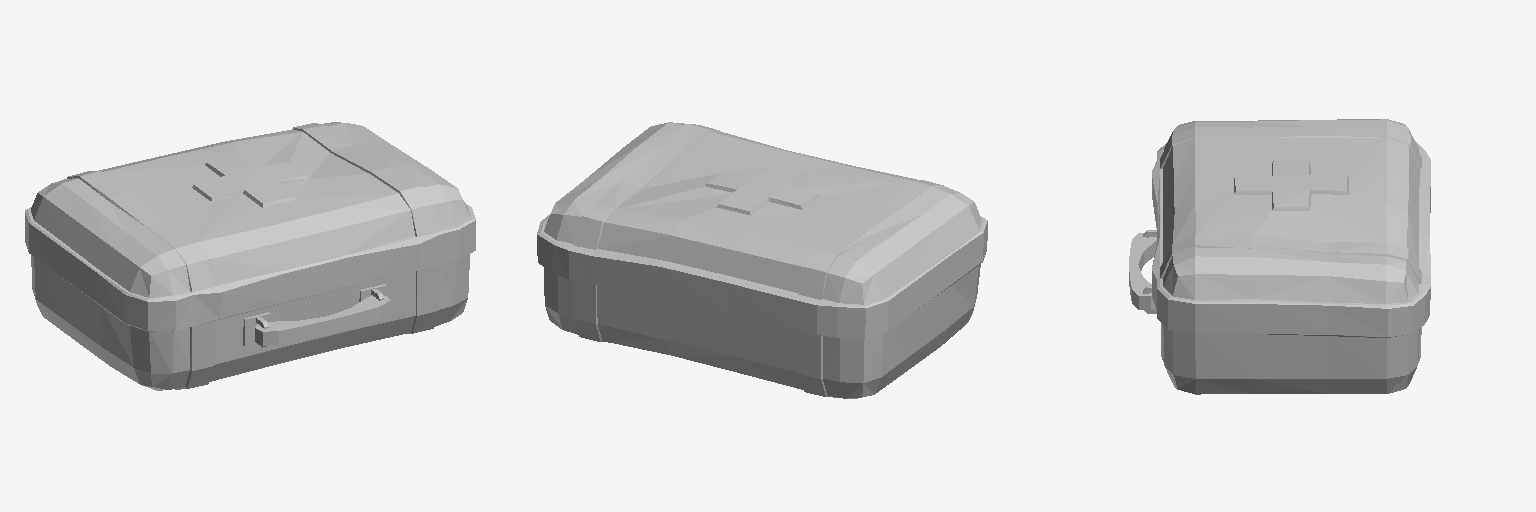
The model's file is abc.obj.
3 renders of one model, left to right at view 1: azimuth 30°, elevation 25°; view 2: azimuth 150°, elevation 25°; view 3: azimuth 270°, elevation 25°, orthographic.
Visible parts, largest first — view 1: loUV:polySurface1 medKit_01_group cryExportNode_medKit_01 polySu, polySurface4 loUV:polySurface1 medKit_01_group cryExportNode_med; view 2: loUV:polySurface1 medKit_01_group cryExportNode_medKit_01 polySu; view 3: loUV:polySurface1 medKit_01_group cryExportNode_medKit_01 polySu, polySurface4 loUV:polySurface1 medKit_01_group cryExportNode_med.
Boxes of the visible parts, <box> form: loUV:polySurface1 medKit_01_group cryExportNode_medKit_01 polySu: <box>25,122,475,390</box>; polySurface4 loUV:polySurface1 medKit_01_group cryExportNode_med: <box>255,295,390,345</box>; loUV:polySurface1 medKit_01_group cryExportNode_medKit_01 polySu: <box>537,122,987,398</box>; loUV:polySurface1 medKit_01_group cryExportNode_medKit_01 polySu: <box>1143,119,1430,394</box>; polySurface4 loUV:polySurface1 medKit_01_group cryExportNode_med: <box>1129,233,1156,310</box>.
Size of the model in its own units: 42.09 by 17.07 by 31.69.